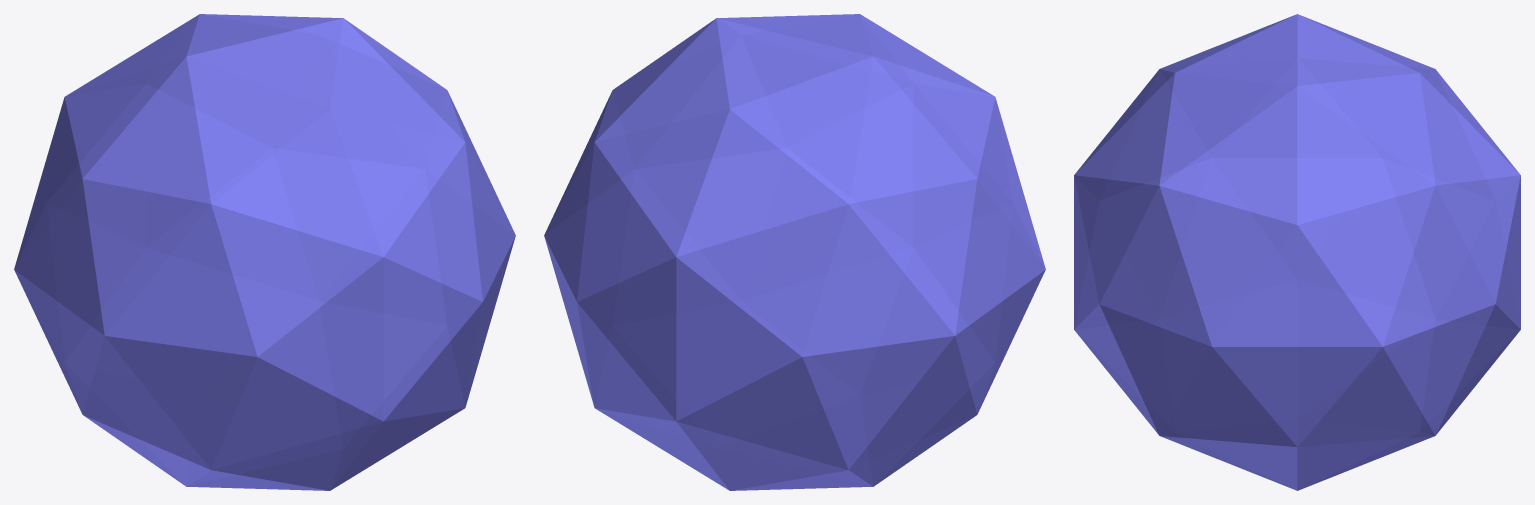
File: PentakisDodecahedron.obj
3 views of the same model, side by side, from view 1: azimuth 30°, elevation 25°; view 2: azimuth 150°, elevation 25°; view 3: azimuth 270°, elevation 25° (orthographic). The views are drawn at different scales.
Size of the model in its own units: 4.85 by 4.85 by 4.85.
